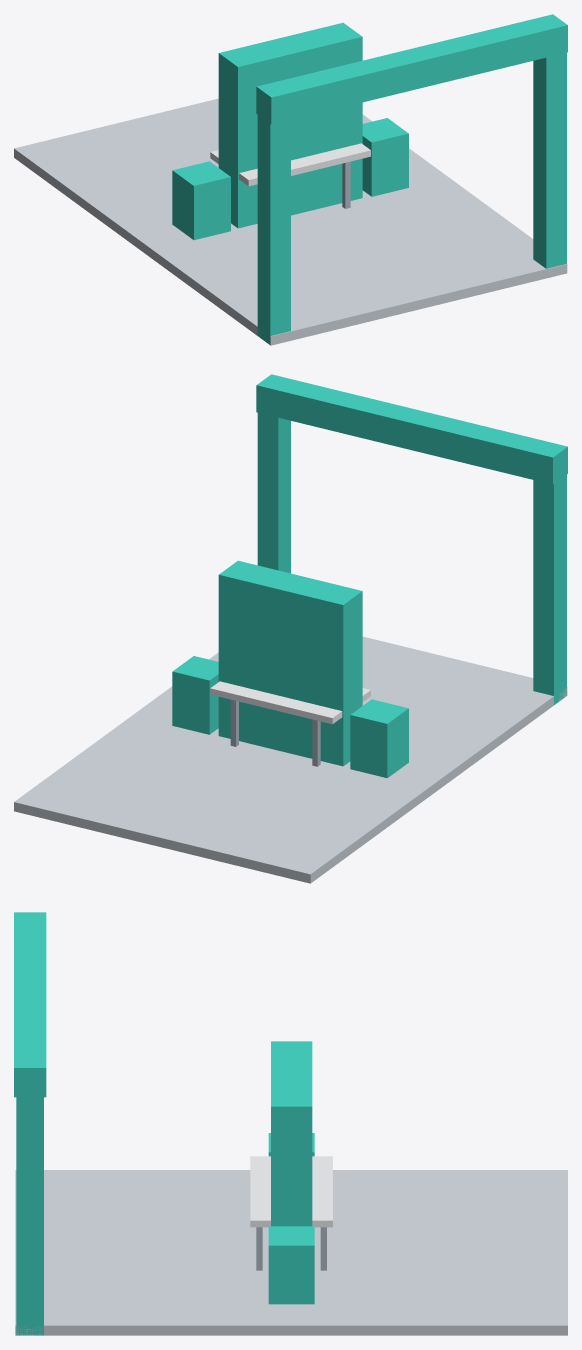
3 views of the same model, one above another, from view 1: azimuth 30°, elevation 25°; view 2: azimuth 150°, elevation 25°; view 3: azimuth 270°, elevation 25° (orthographic). The views are drawn at different scales.
Visible parts, largest first — view 1: Exhibition Booth Concept; view 2: Exhibition Booth Concept; view 3: Exhibition Booth Concept.
Part boxes in pixels (x1=…): Exhibition Booth Concept: x1=14, y1=14, x2=567, y2=345; Exhibition Booth Concept: x1=14, y1=374, x2=567, y2=883; Exhibition Booth Concept: x1=14, y1=912, x2=567, y2=1335.
Size of the model in its own units: 4 by 3.2 by 6.02.
